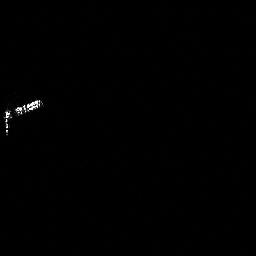ship: (2, 97, 44, 138)
